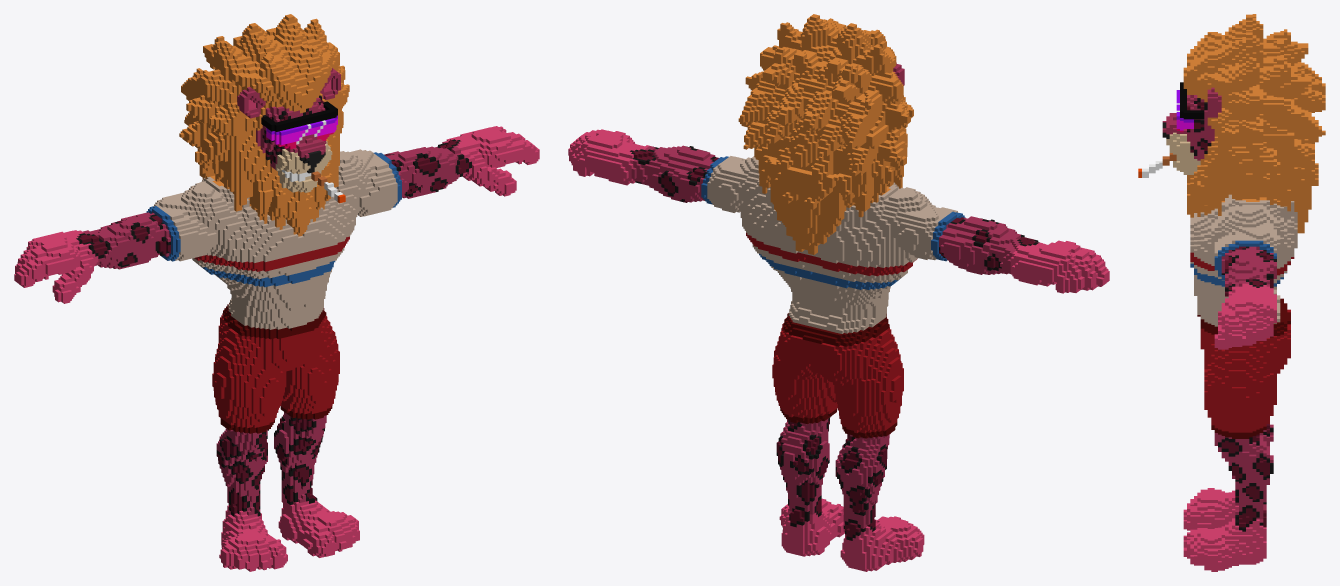
3 renders of one model, left to right at view 1: azimuth 30°, elevation 25°; view 2: azimuth 150°, elevation 25°; view 3: azimuth 270°, elevation 25°, orthographic. The views are drawn at different scales.
Visible parts, largest first — view 1: cigarette; view 2: cigarette; view 3: cigarette.
Boxes of the visible parts, x1,y1,x2,y2 form: cigarette: (14, 14, 539, 571); cigarette: (568, 14, 1109, 571); cigarette: (1138, 14, 1325, 571).
Bounding box in the file's own units: 17.2 × 16.5 × 5.4.
Materials: 5 (5 with a texture image).
